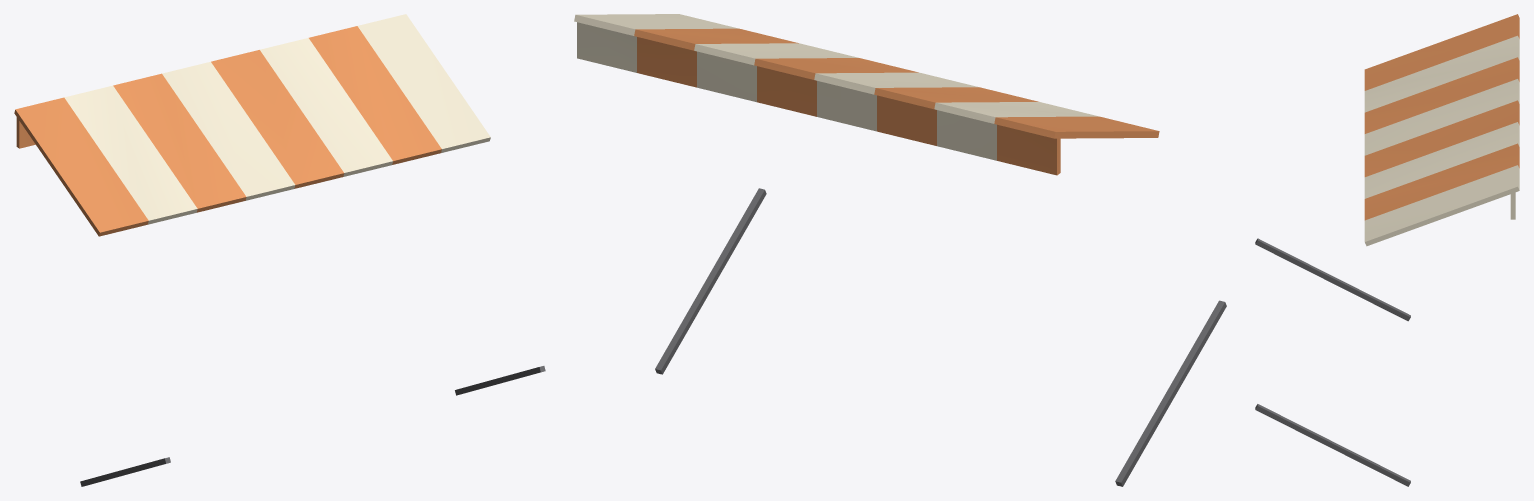
File: awning.glb
3 views of the same model, side by side, from view 1: azimuth 30°, elevation 25°; view 2: azimuth 150°, elevation 25°; view 3: azimuth 270°, elevation 25° (orthographic). The views are drawn at different scales.
Parts seen in each view (by area): view 1: awning; view 2: awning; view 3: awning.
Part boxes in pixels (bbox=[...]): awning: bbox=[14, 14, 545, 486]; awning: bbox=[574, 14, 1226, 486]; awning: bbox=[1255, 14, 1519, 486].
Bounding box in the file's own units: 2.4 × 1.96 × 1.55.
